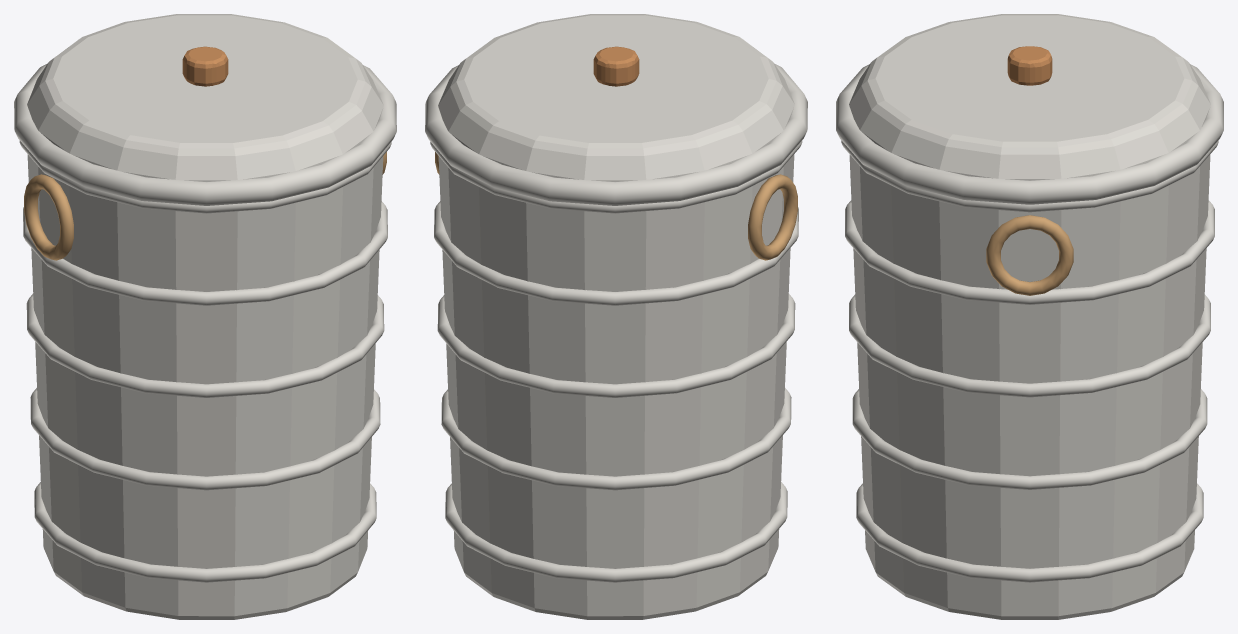
Rendered from hh_cat_laundry_hamper.glb.
The picture shows the model from 3 angles, left to right: view 1: azimuth 30°, elevation 25°; view 2: azimuth 150°, elevation 25°; view 3: azimuth 270°, elevation 25°; orthographic projection.
Visible parts, largest first — view 1: body, lid, rim, weave_band.002, weave_band.001, weave_band, weave_band.003, weave_band.004, rope_handle, lid_knob; view 2: body, lid, rim, weave_band.002, weave_band.001, weave_band, weave_band.003, weave_band.004, rope_handle, lid_knob; view 3: body, lid, rim, weave_band.003, weave_band.002, weave_band.001, weave_band, rope_handle.001, weave_band.004, lid_knob.
Boxes of the visible parts, x1,y1,x2,y2 form: body: [27, 154, 383, 619]; lid: [27, 14, 383, 181]; rim: [14, 63, 396, 205]; weave_band.002: [26, 293, 384, 397]; weave_band.001: [30, 388, 380, 490]; weave_band: [34, 482, 376, 582]; weave_band.003: [23, 201, 387, 305]; weave_band.004: [19, 140, 391, 213]; rope_handle: [24, 174, 73, 260]; lid_knob: [182, 46, 228, 86]; body: [438, 154, 794, 619]; lid: [438, 14, 794, 181]; rim: [425, 63, 807, 205]; weave_band.002: [437, 293, 795, 397]; weave_band.001: [441, 388, 791, 490]; weave_band: [445, 482, 787, 582]; weave_band.003: [434, 201, 798, 305]; weave_band.004: [430, 140, 802, 213]; rope_handle: [748, 174, 797, 260]; lid_knob: [593, 46, 639, 86]; body: [849, 155, 1210, 619]; lid: [849, 14, 1210, 180]; rim: [836, 64, 1223, 204]; weave_band.003: [845, 200, 1214, 304]; weave_band.002: [849, 294, 1210, 397]; weave_band.001: [852, 389, 1207, 489]; weave_band: [856, 483, 1203, 582]; rope_handle.001: [986, 215, 1073, 295]; weave_band.004: [841, 140, 1218, 212]; lid_knob: [1007, 46, 1052, 85].
Size of the model in its own units: 0.42 by 0.6 by 0.42.
